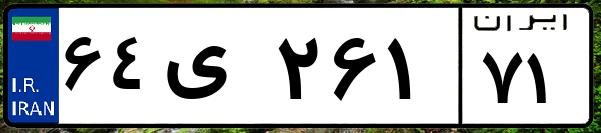1: (385, 28, 445, 110), (525, 38, 570, 115)
2: (270, 28, 330, 110)
4: (110, 28, 158, 98)
6: (330, 28, 385, 110), (57, 26, 110, 100)
7: (475, 38, 525, 113)
ی: (158, 20, 270, 120)
